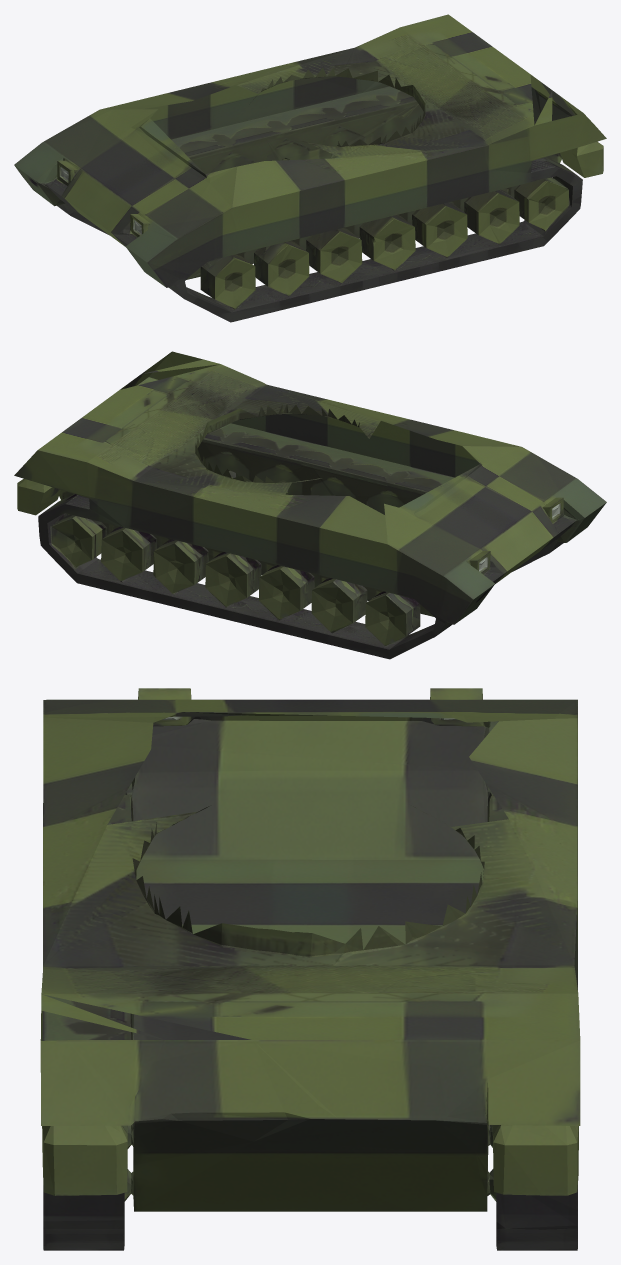
The model's file is tank_hull.obj.
3 renders of one model, top to bottom at view 1: azimuth 30°, elevation 25°; view 2: azimuth 150°, elevation 25°; view 3: azimuth 270°, elevation 25°, orthographic. The views are drawn at different scales.
Size of the model in its own units: 1.61 by 0.4305 by 0.8217.
1 material, 1 textured.
